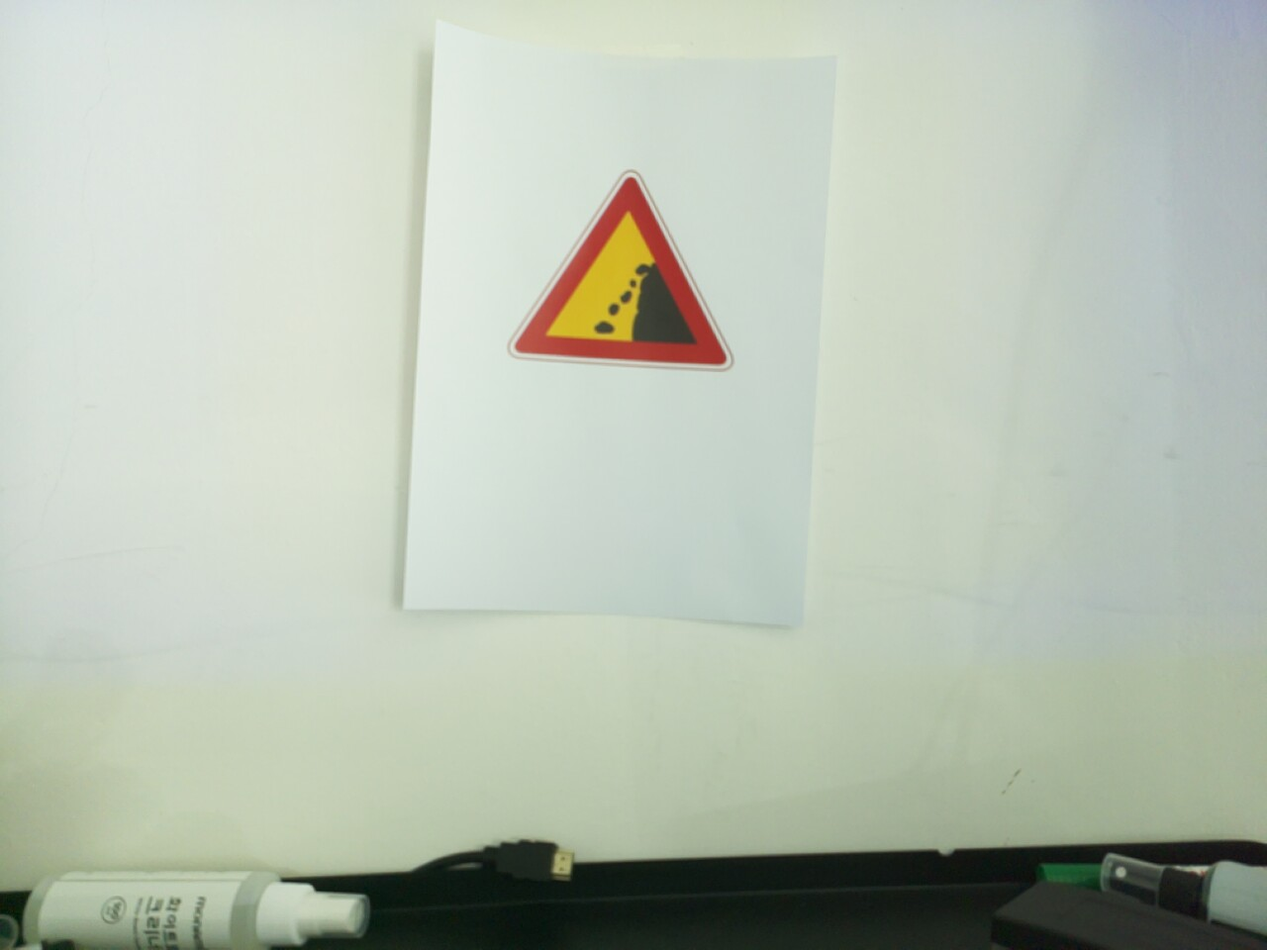falling_rocks: (507, 170, 734, 372)
